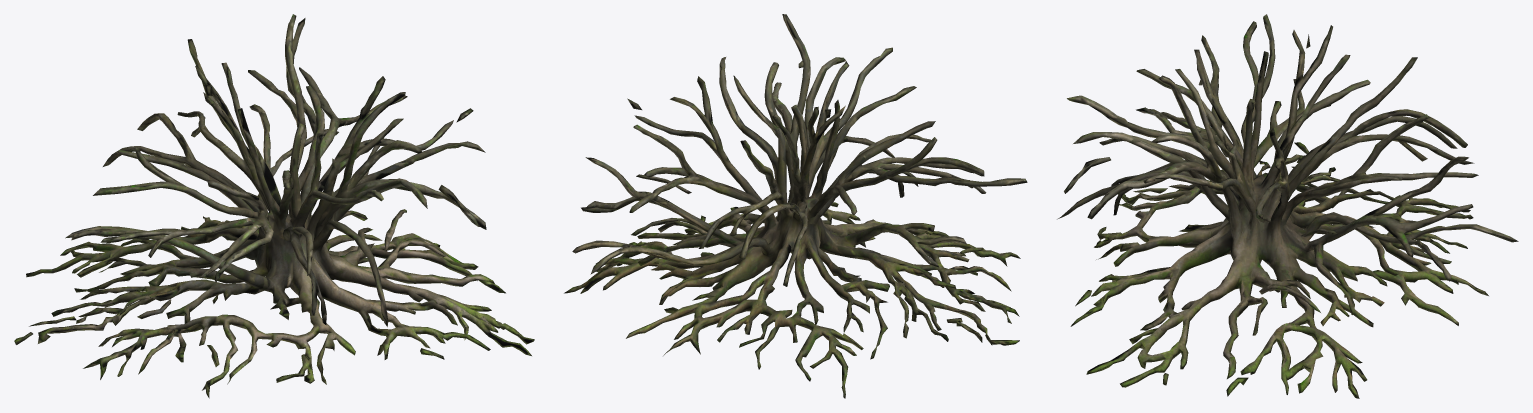
The model's file is mangrove-three2.glb.
3 renders of one model, left to right at view 1: azimuth 30°, elevation 25°; view 2: azimuth 150°, elevation 25°; view 3: azimuth 270°, elevation 25°, orthographic. The views are drawn at different scales.
Bounding box in the file's own units: 1.97 × 1.08 × 1.74.
Materials: 1 (1 with a texture image).
